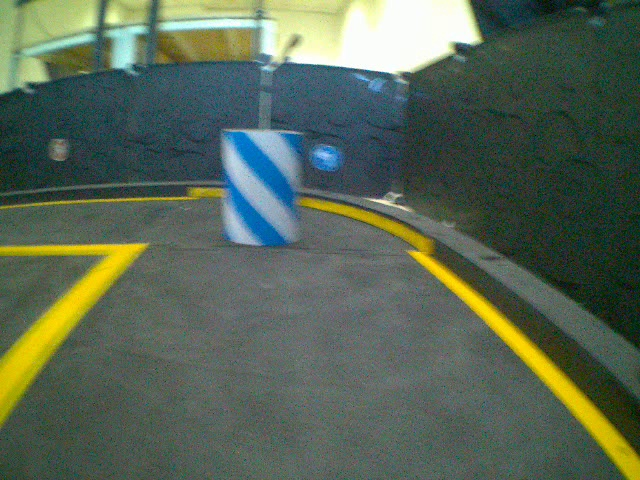bucket: (219, 126, 301, 250)
